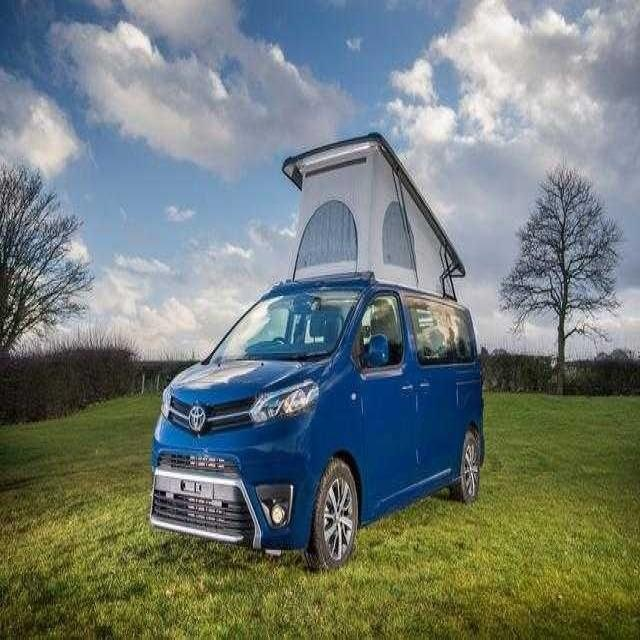Van: (154, 273, 486, 566)
